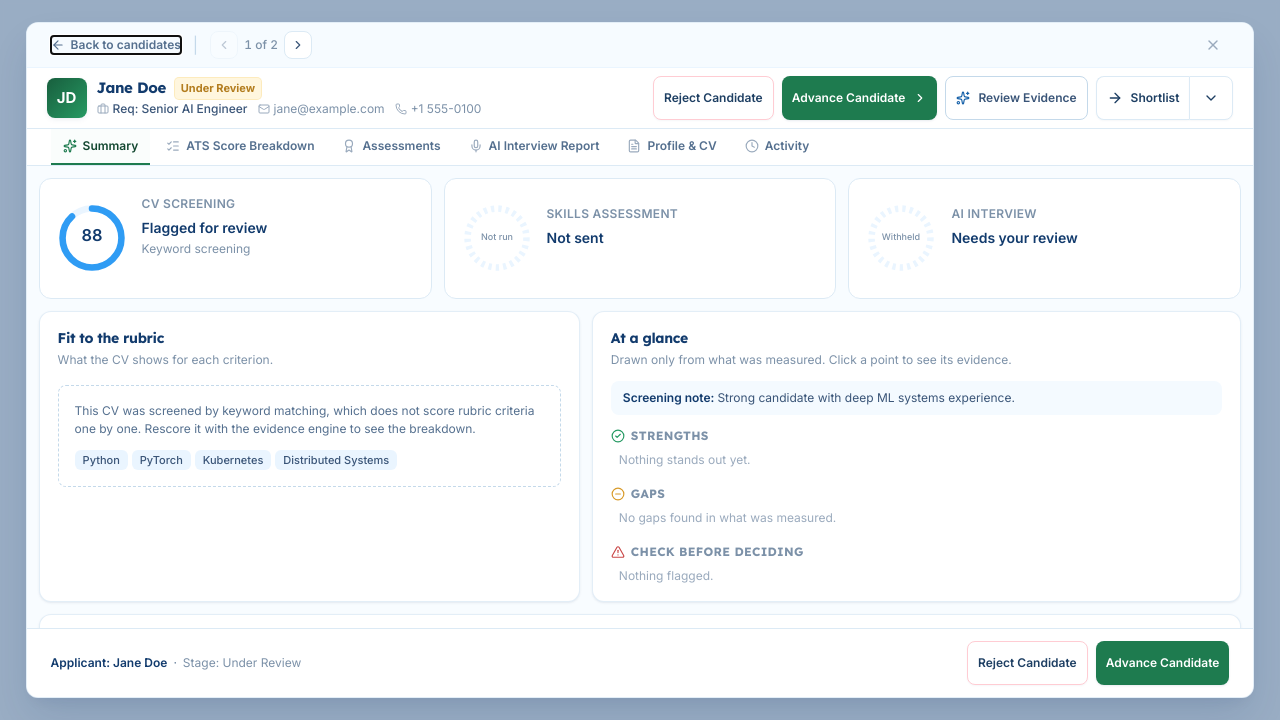
Scenario: supports cycling through candidate list with Prev and Next buttons
Expected: the heading "Jane Doe" is shown, [97,79,166,98]
Expected: the button named "Previous candidate" is disabled, [210,31,238,59]
Click the button named "Next candidate". click: click(298, 45)
box: [284,31,312,59]
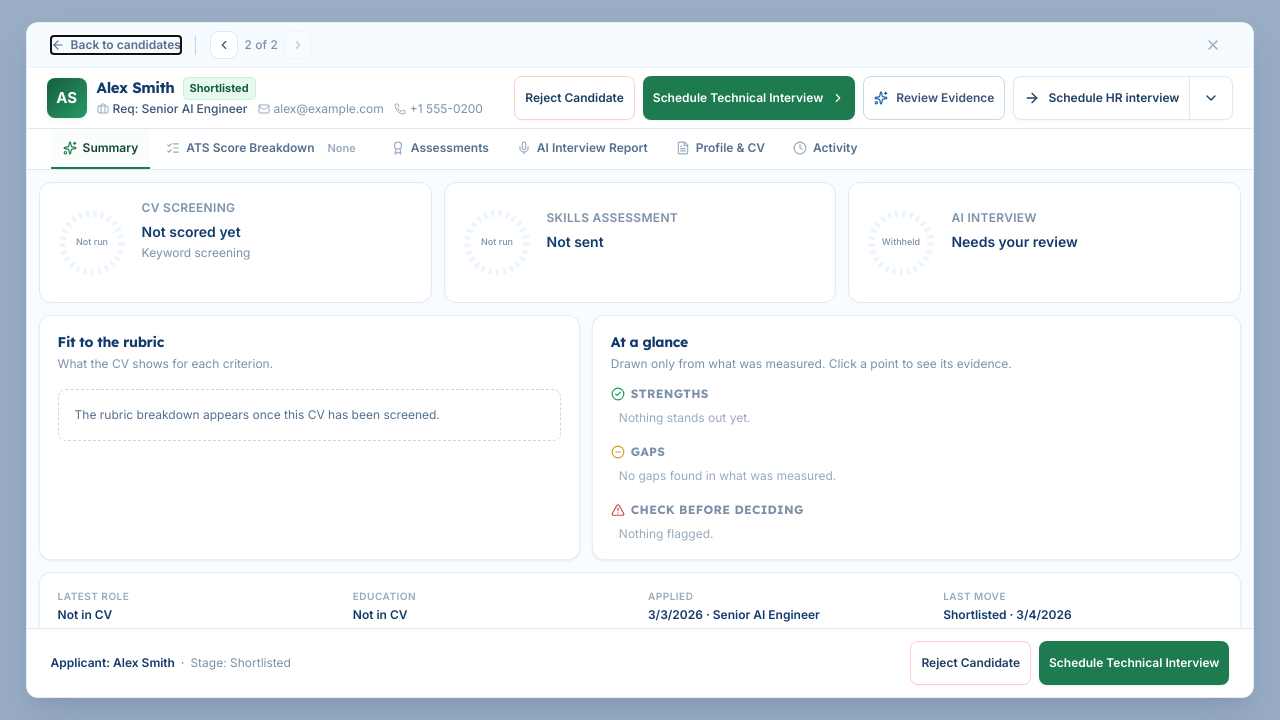
Expected: the heading "Alex Smith" is shown, [97,79,174,98]
Click the button named "Previous candidate". click: click(224, 45)
box: [210,31,238,59]
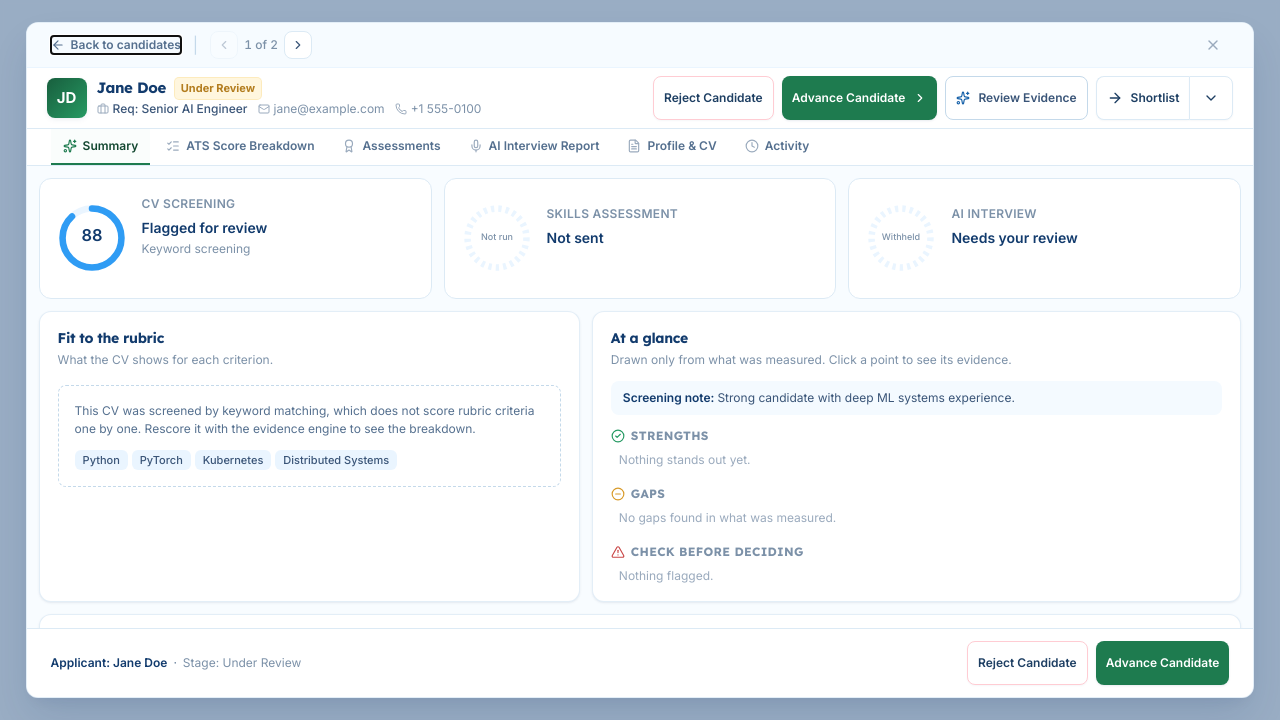
Expected: the heading "Jane Doe" is shown, [97,79,166,98]
